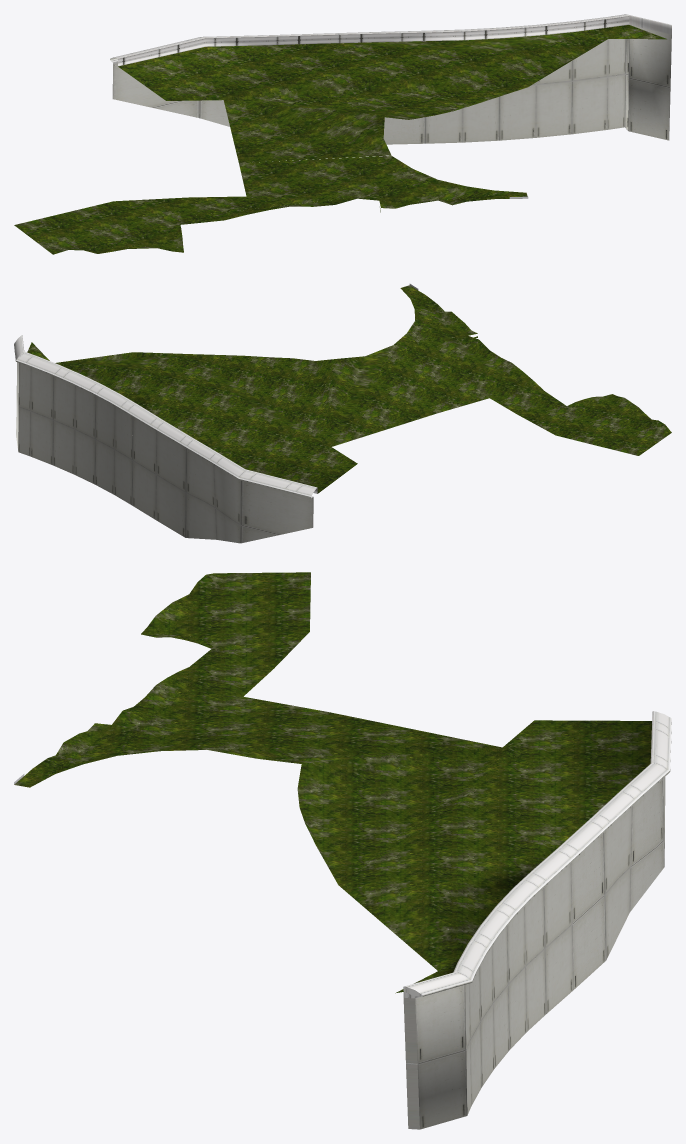
Rendered from STA20_garden02.FBX.
3 views of the same model, one above another, from view 1: azimuth 30°, elevation 25°; view 2: azimuth 150°, elevation 25°; view 3: azimuth 270°, elevation 25° (orthographic). The views are drawn at different scales.
Visible parts, largest first — view 1: STA20_garden02; view 2: STA20_garden02; view 3: STA20_garden02.
Boxes of the visible parts, x1,y1,x2,y2 form: STA20_garden02: [14, 14, 671, 254]; STA20_garden02: [14, 284, 671, 543]; STA20_garden02: [14, 572, 671, 1129].
Bounding box in the file's own units: 66.14 × 12.41 × 43.95.
